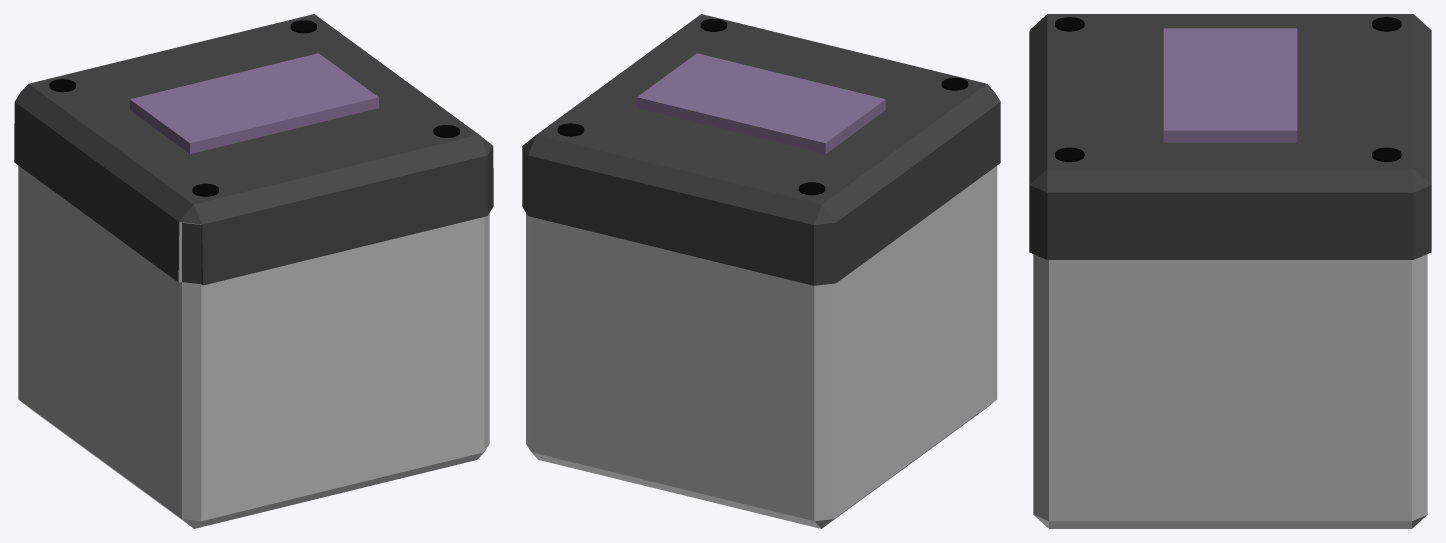
File: caja negativa.fbx
3 views of the same model, side by side, from view 1: azimuth 30°, elevation 25°; view 2: azimuth 150°, elevation 25°; view 3: azimuth 270°, elevation 25° (orthographic). The views are drawn at different scales.
Parts seen in each view (by area): view 1: pCube6; view 2: pCube6; view 3: pCube6.
Boxes of the visible parts, x1,y1,x2,y2 form: pCube6: (14, 14, 493, 528); pCube6: (522, 14, 1000, 528); pCube6: (1029, 14, 1431, 528).
Bounding box in the file's own units: 3.01 × 3.08 × 3.01.
